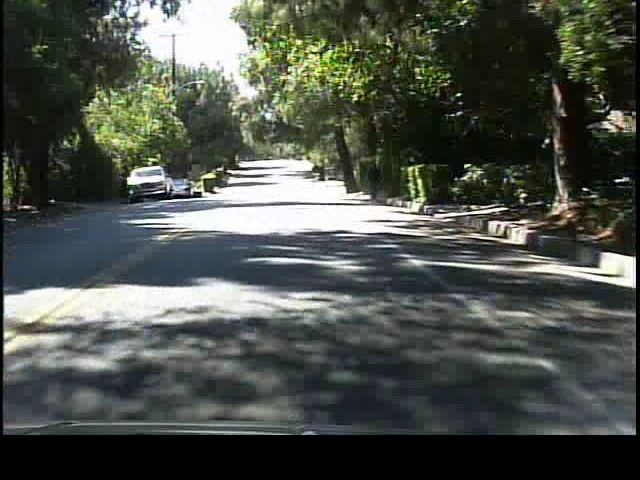person: (366, 155, 385, 203)
